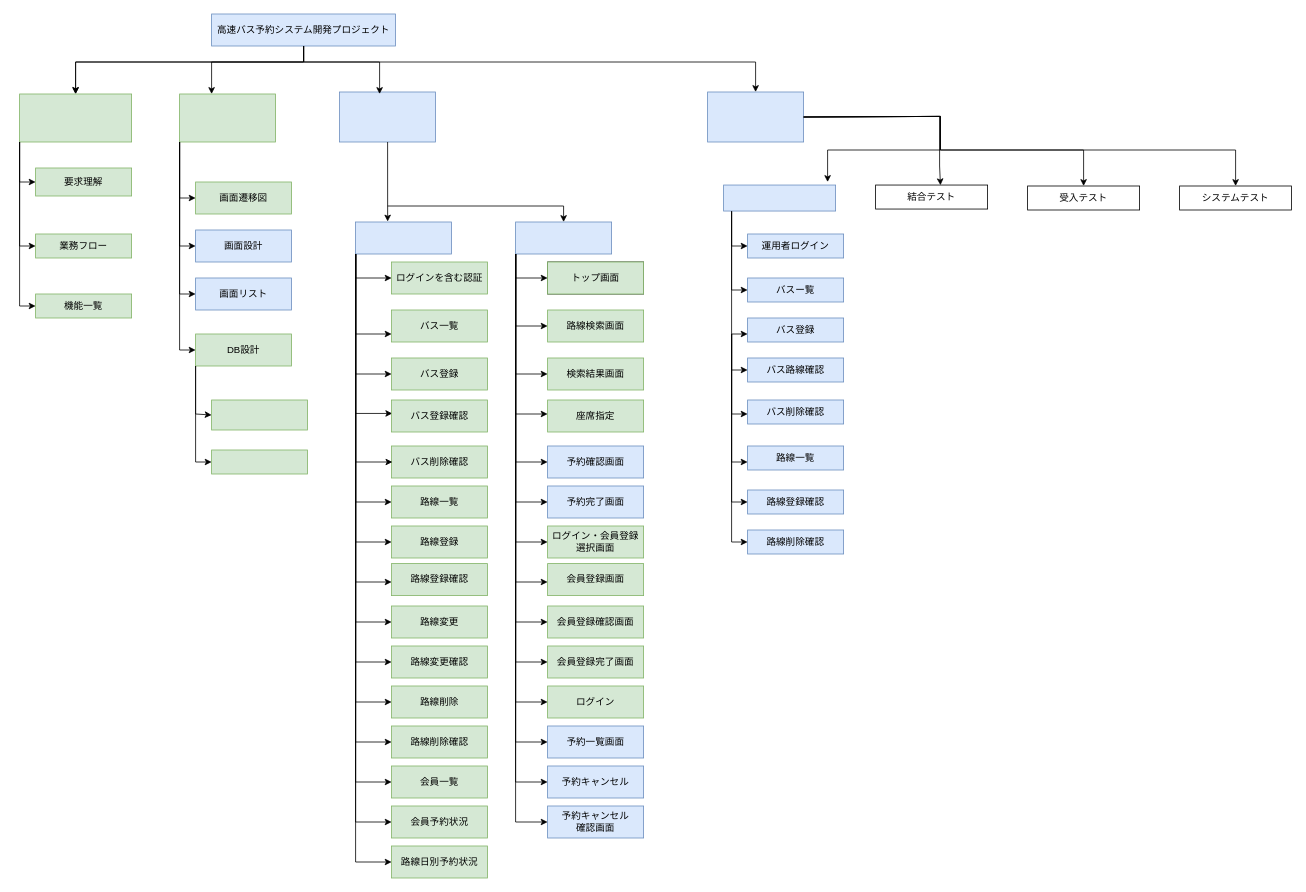
The diagram is 1306 pixels wide and 892 high, and some of its shapes have lost their labels. Here are the shapes that lost their labels. From the top down, the centre of each, then its label:
At pixel 75 117: "要件定義".
At pixel 227 117: "設計作業".
At pixel 387 116: "プログラム".
At pixel 755 116: "テスト".
At pixel 779 197: "単体テスト仕様書作成".
At pixel 403 237: "運用者".
At pixel 563 237: "利用者".
At pixel 259 414: "ERD".
At pixel 259 461: "テーブル定義書".
